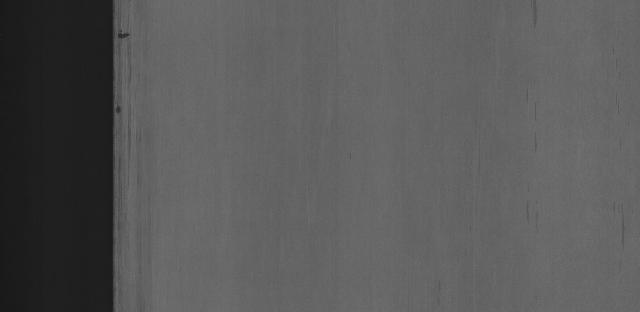oil_spot: (114, 99, 128, 121), (114, 27, 127, 49)
